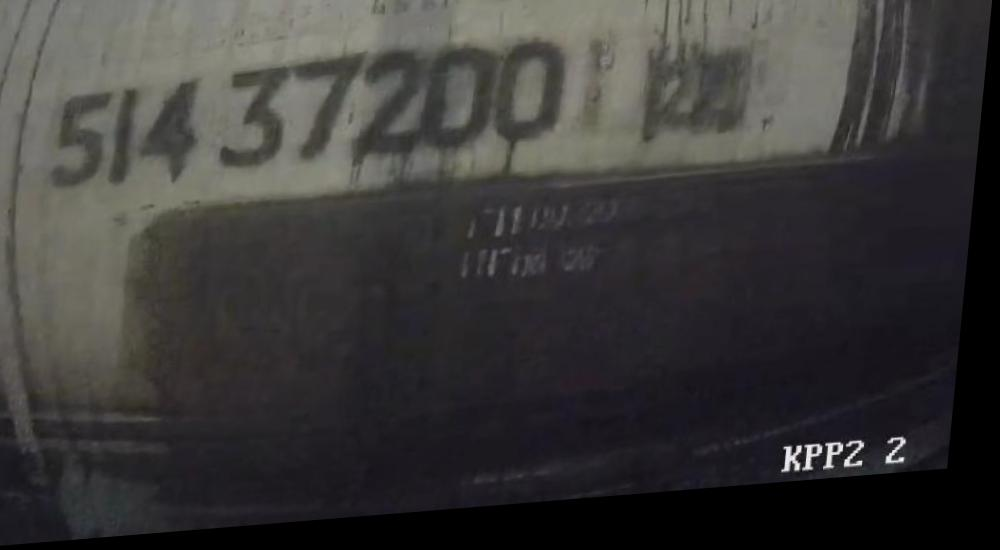Wagon-number: (44, 38, 577, 195)
